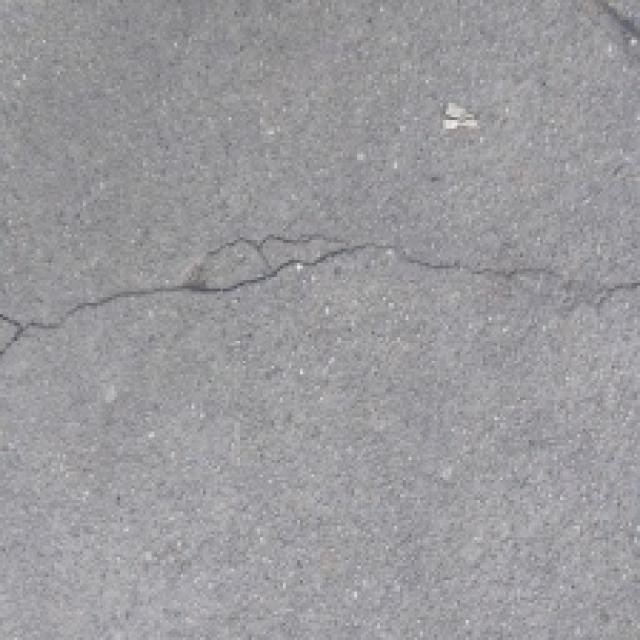crack: (0, 190, 640, 384)
